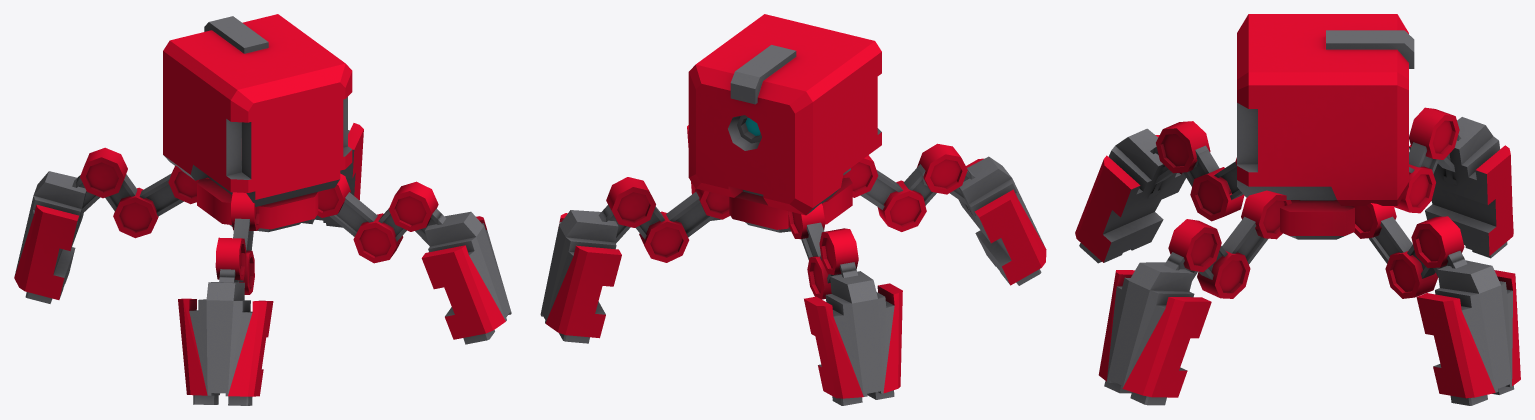
Rendered from Monster1_Attack23.obj.
3 views of the same model, side by side, from view 1: azimuth 30°, elevation 25°; view 2: azimuth 150°, elevation 25°; view 3: azimuth 270°, elevation 25° (orthographic). The views are drawn at different scales.
Parts seen in each view (by area): view 1: Box006, Object021, Object017, Object025, Object020, Object028, Object027, Object018, Object019, Object026, Object024, Object022 (+1 smaller); view 2: Box006, Object025, Object013, Object021, Object016, Object023, Object024, Object015, Object014, Object028, Object022, Object026 (+1 smaller); view 3: Box006, Object017, Object013, Object021, Object025, Object018, Object023, Object020, Object016, Object024, Object014, Object028 (+4 smaller).
Part boxes in pixels (left/top/right/bottom): Box006: left=163, top=14, right=352, bottom=232; Object021: left=178, top=282, right=273, bottom=405; Object017: left=421, top=211, right=511, bottom=344; Object025: left=14, top=171, right=86, bottom=303; Object020: left=388, top=181, right=446, bottom=245; Object028: left=72, top=147, right=127, bottom=215; Object027: left=105, top=174, right=158, bottom=238; Object018: left=317, top=173, right=377, bottom=236; Object019: left=353, top=208, right=406, bottom=263; Object026: left=139, top=166, right=209, bottom=216; Object024: left=215, top=237, right=246, bottom=282; Object022: left=231, top=192, right=259, bottom=252; Box006: left=688, top=14, right=881, bottom=232; Object025: left=804, top=271, right=902, bottom=405; Object013: left=540, top=210, right=621, bottom=343; Object021: left=959, top=156, right=1046, bottom=285; Object016: left=598, top=177, right=655, bottom=243; Object023: left=877, top=164, right=936, bottom=231; Object024: left=917, top=143, right=975, bottom=206; Object015: left=635, top=206, right=689, bottom=262; Object014: left=666, top=188, right=730, bottom=237; Object028: left=819, top=228, right=858, bottom=277; Object022: left=843, top=155, right=902, bottom=209; Object026: left=788, top=203, right=825, bottom=259; Box006: left=1237, top=14, right=1414, bottom=239; Object017: left=1098, top=262, right=1211, bottom=405; Object013: left=1416, top=260, right=1520, bottom=405; Object021: left=1075, top=128, right=1186, bottom=263; Object025: left=1409, top=117, right=1513, bottom=258; Object018: left=1222, top=190, right=1291, bottom=264; Object023: left=1183, top=145, right=1244, bottom=221; Object020: left=1164, top=219, right=1221, bottom=280; Object016: left=1411, top=216, right=1467, bottom=276; Object024: left=1150, top=121, right=1210, bottom=184; Object014: left=1351, top=203, right=1412, bottom=263; Object028: left=1409, top=107, right=1461, bottom=171.
Size of the model in its own units: 150 by 109 by 153.
